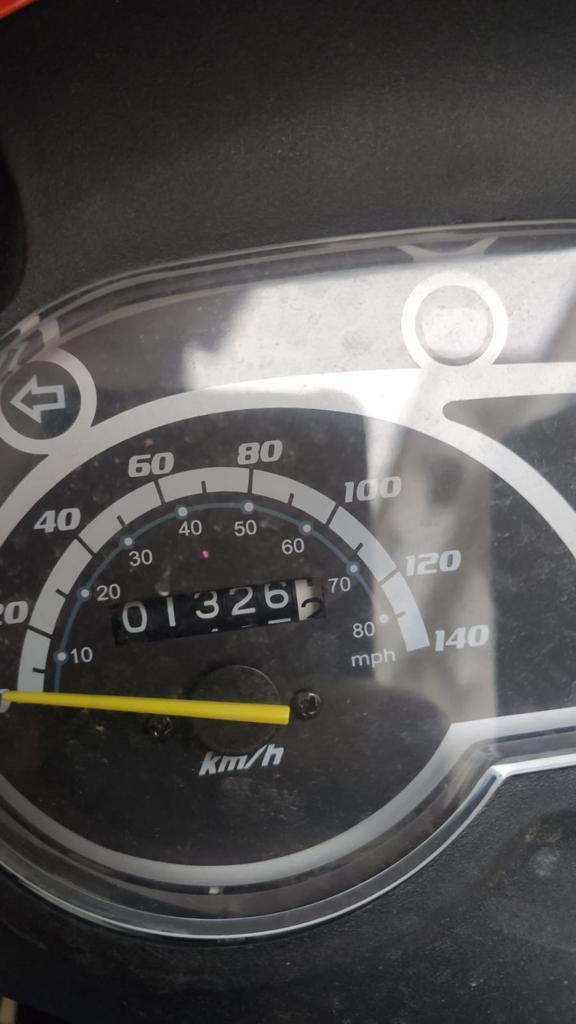0: (121, 599, 149, 635), (107, 580, 122, 602)
1: (162, 590, 179, 632)
2: (227, 582, 257, 618), (300, 595, 325, 626)
3: (192, 587, 222, 623)
6: (261, 579, 289, 613)
odometer: (107, 573, 329, 649)
